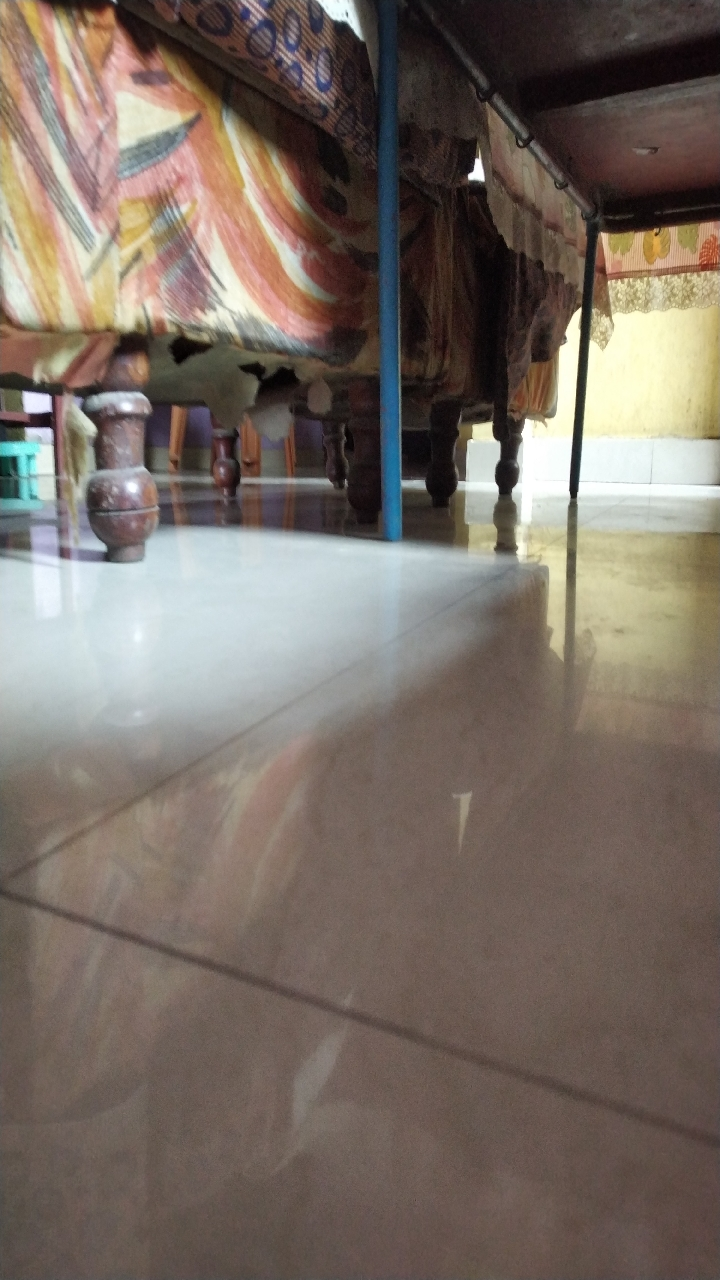Furnitures: (2, 237, 429, 572), (421, 315, 610, 553)
